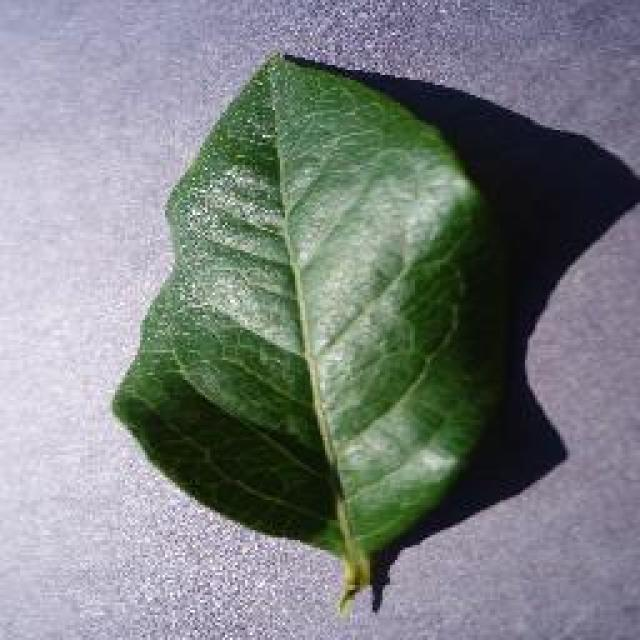Blu_healthy: (142, 124, 460, 492)
